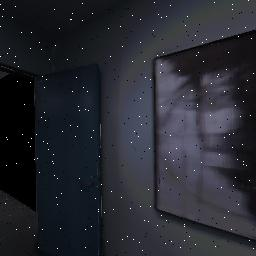door: (28, 55, 110, 256)
